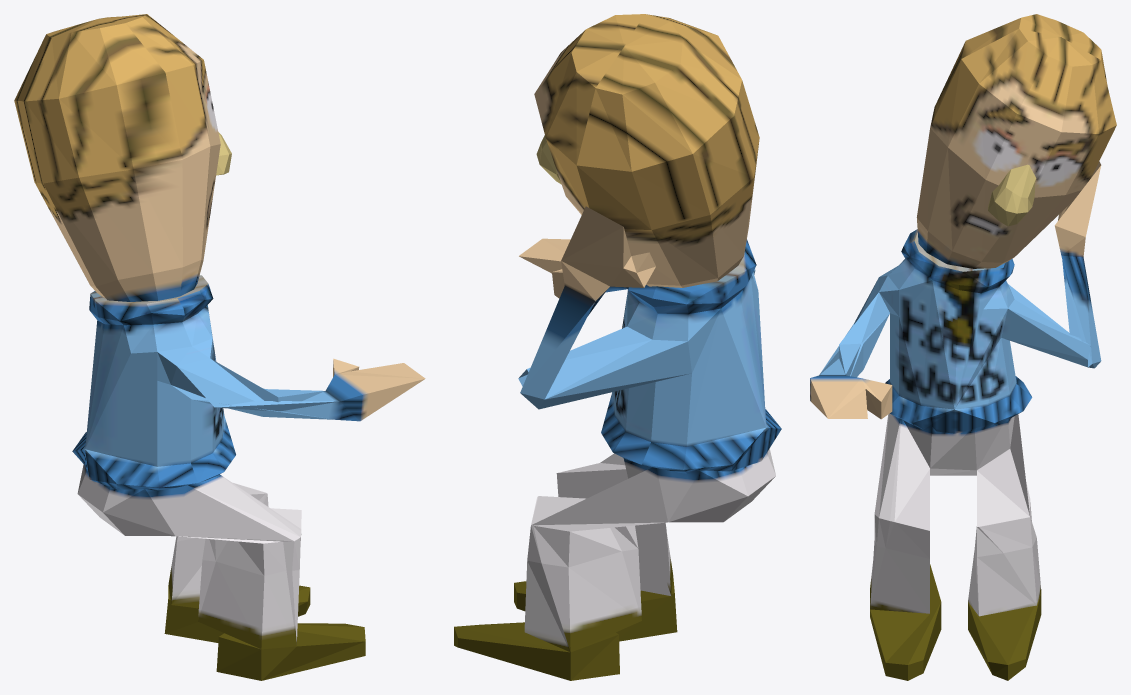
File: PipCards.glb
3 renders of one model, left to right at view 1: azimuth 30°, elevation 25°; view 2: azimuth 150°, elevation 25°; view 3: azimuth 270°, elevation 25°, orthographic. The views are drawn at different scales.
Visible parts, largest first — view 1: PipCards; view 2: PipCards; view 3: PipCards.
Boxes of the visible parts, x1,y1,x2,y2 form: PipCards: (14,14,425,680); PipCards: (454,14,781,680); PipCards: (810,14,1116,680).
Size of the model in its own units: 51.21 by 106 by 51.42.
Materials: 1 (1 with a texture image).
